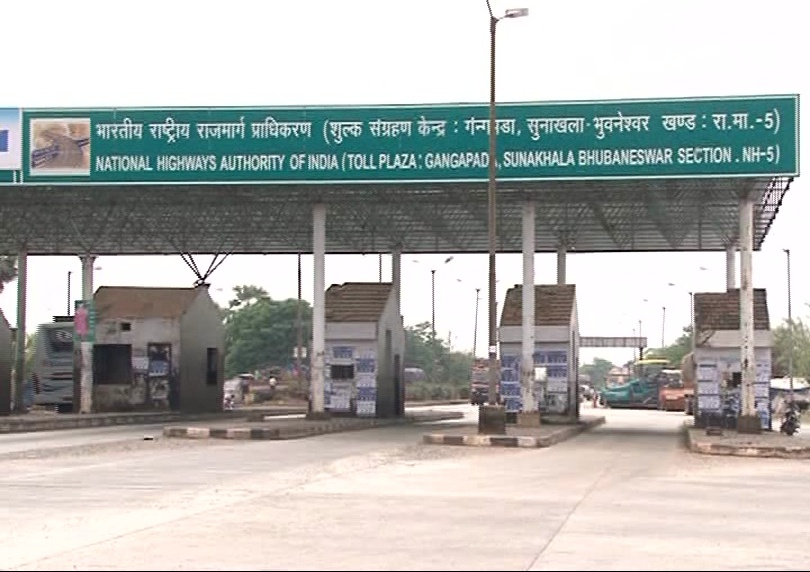toll plaza: (71, 260, 785, 464), (8, 101, 798, 181)
